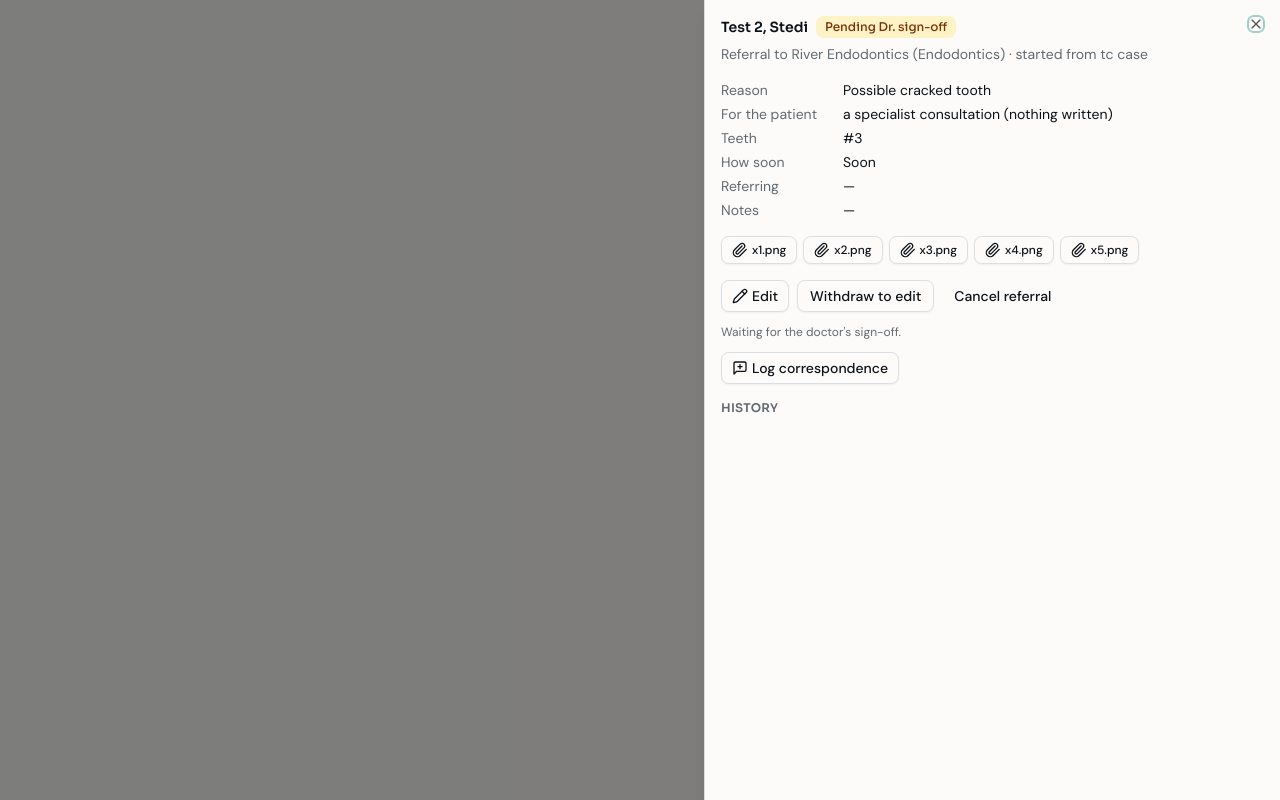
Test: 5: a file with it, through R4 unchanged › at the cap of 5: no file offered — R4's sentence says why — and the note still logs
This screenshot has width=1280, height=800.
Expected: the element with test id "tc-hub-actions" is shown, x1=721 y1=280 x2=1063 y2=384
Expected: the number of buttons "x1.png" is 5, x1=721 y1=236 x2=797 y2=264; x1=803 y1=236 x2=883 y2=264; x1=888 y1=236 x2=968 y2=264; x1=974 y1=236 x2=1054 y2=264; x1=1060 y1=236 x2=1140 y2=264
Step 1. Click the button with test id "tc-hub-correspondence-open" → (810, 368), box x1=721 y1=352 x2=899 y2=384
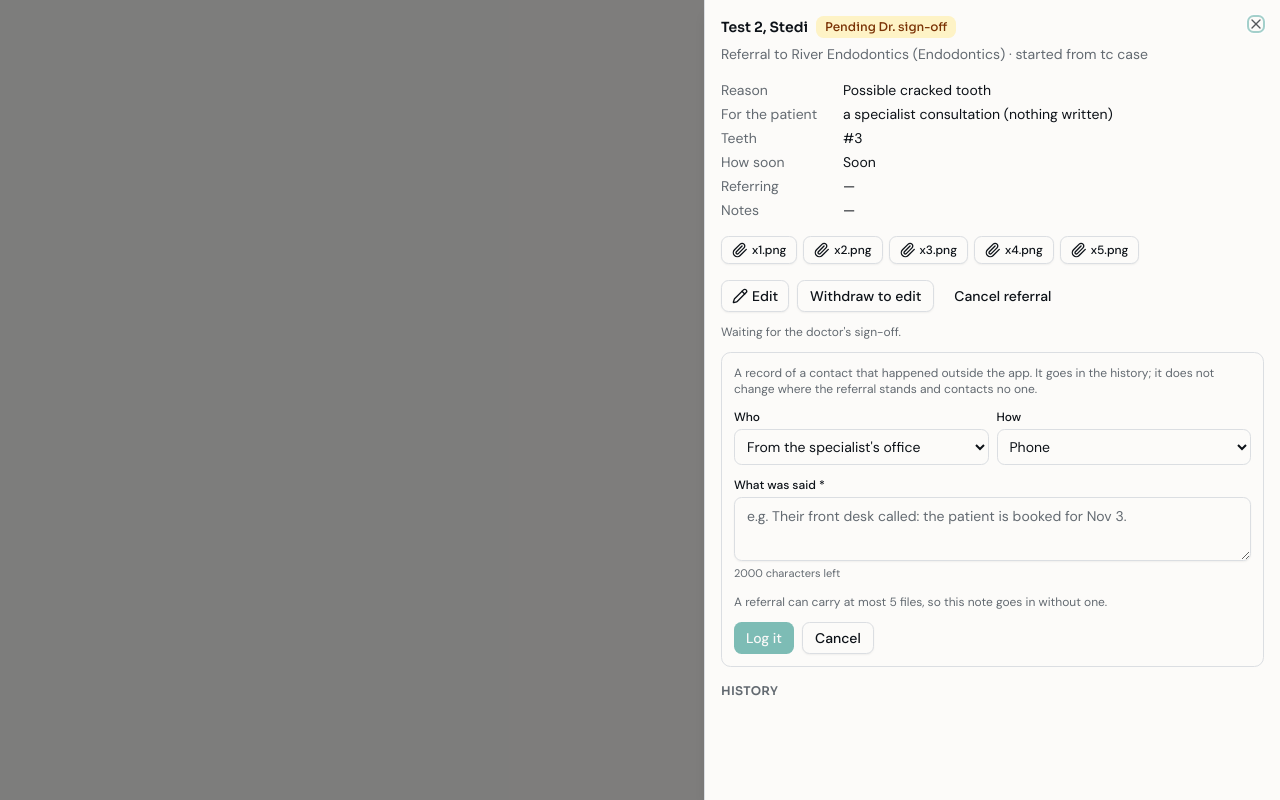
Expected: the text with test id "tc-hub-correspondence-no-file" shows "A referral can carry at most 5 files", x1=734 y1=594 x2=1107 y2=610
